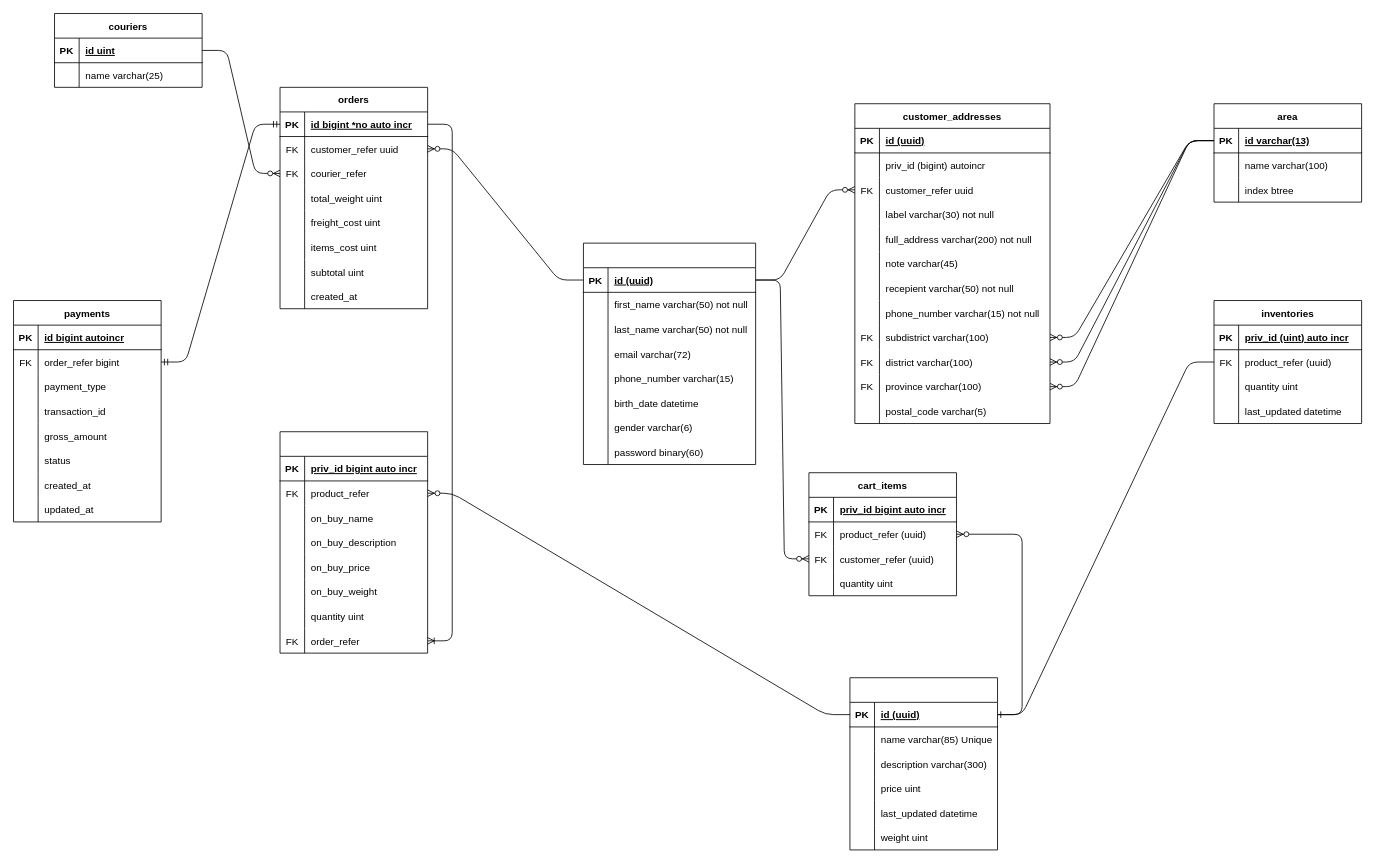
Image size: 1375x863. Some labels were removed from this diagram. Here are the shapes that lost their labels. From the top down, the box of each, then its label:
(583, 242, 756, 465): customers
(279, 431, 428, 653): order_item
(849, 677, 998, 850): products
